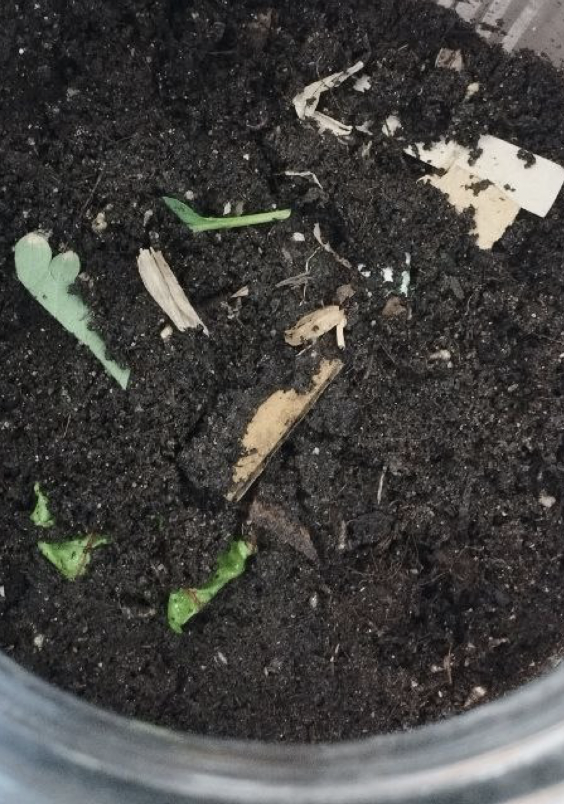cardboard: (376, 81, 561, 265)
dried leaves: (243, 313, 346, 481)
leafy greens: (0, 211, 132, 401), (158, 529, 271, 641), (164, 167, 307, 247), (29, 485, 111, 588)
unknown browns: (289, 48, 369, 150), (140, 240, 195, 344)
